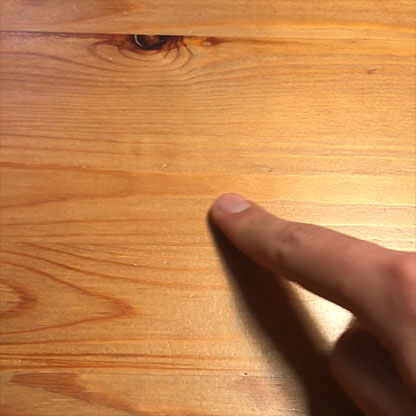fingertip: (201, 187, 257, 232)
